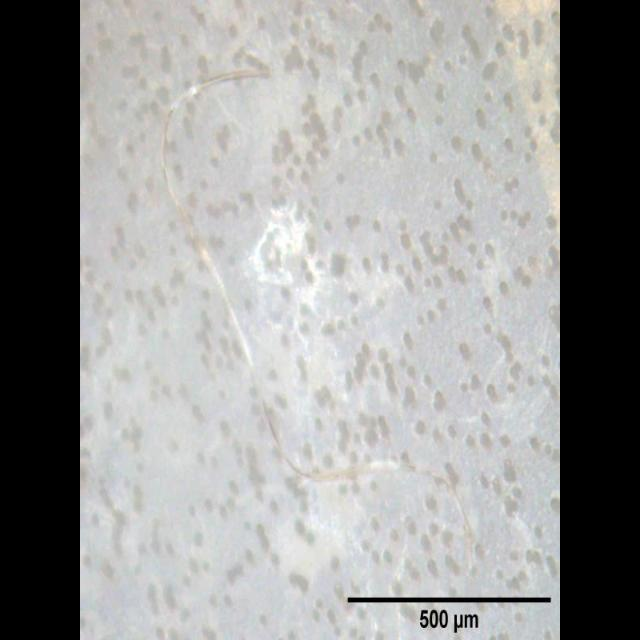Fibre: (160, 61, 462, 514)
